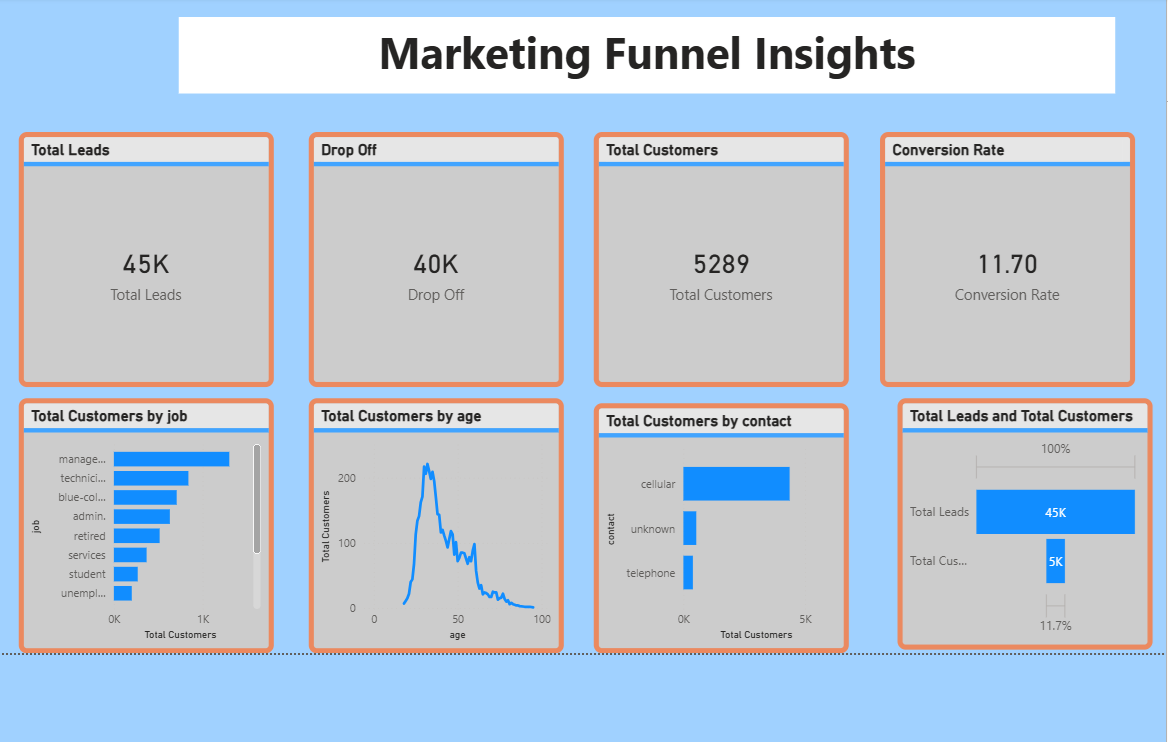

The page's visual inventory and layout, read from the dashboard file:
{"tool":"powerbi","page":{"name":"Page 1","canvas":[1280,720],"ordinal":0},"visuals":[{"type":"card","title":"Total Leads","fields":{"Values":["bank-full.Total Leads"]},"box":[20.6,148.2,279.9,279.9],"z":0},{"type":"card","title":"Total Customers","fields":{"Values":["bank-full.Total Customers"]},"box":[651.8,148.2,279.9,279.9],"z":1000},{"type":"card","title":"Drop Off","fields":{"Values":["bank-full.Drop Off"]},"box":[338.9,148.2,279.9,279.9],"z":2000},{"type":"clusteredBarChart","fields":{"Y":["bank-full.Total Customers"],"Category":["bank-full.job"]},"box":[20.6,440.5,279.9,279.9],"z":3000},{"type":"lineChart","fields":{"Category":["bank-full.age"],"Y":["bank-full.Total Customers"]},"box":[338.9,440.5,279.9,279.9],"z":4000},{"type":"funnel","fields":{"Y":["bank-full.Total Leads","bank-full.Total Customers"]},"box":[985.3,440.5,279.9,275.8],"z":5000},{"type":"card","title":"Conversion Rate","fields":{"Values":["bank-full.Conversion Rate"]},"box":[966,148.2,279.9,279.9],"z":6000},{"type":"barChart","fields":{"Y":["bank-full.Total Customers"],"Category":["bank-full.contact"]},"box":[651.8,446,279.9,274.4],"z":7000},{"type":"textbox","box":[196.2,22,1027.8,83.7],"z":7001}]}

Visuals, with their boxes in screenshot pixels (x1, y1, x2, y2):
"Total Leads" card: [x1=22, y1=161, x2=273, y2=413]
"Total Customers" card: [x1=590, y1=161, x2=841, y2=413]
"Drop Off" card: [x1=308, y1=161, x2=560, y2=413]
clusteredBarChart - bank-full.Total Customers x bank-full.job: [x1=22, y1=424, x2=273, y2=676]
lineChart - bank-full.age x bank-full.Total Customers: [x1=308, y1=424, x2=560, y2=676]
funnel - bank-full.Total Leads x bank-full.Total Customers: [x1=890, y1=424, x2=1142, y2=672]
"Conversion Rate" card: [x1=872, y1=161, x2=1124, y2=413]
barChart - bank-full.Total Customers x bank-full.contact: [x1=590, y1=429, x2=841, y2=676]
textbox: [x1=180, y1=47, x2=1105, y2=122]
